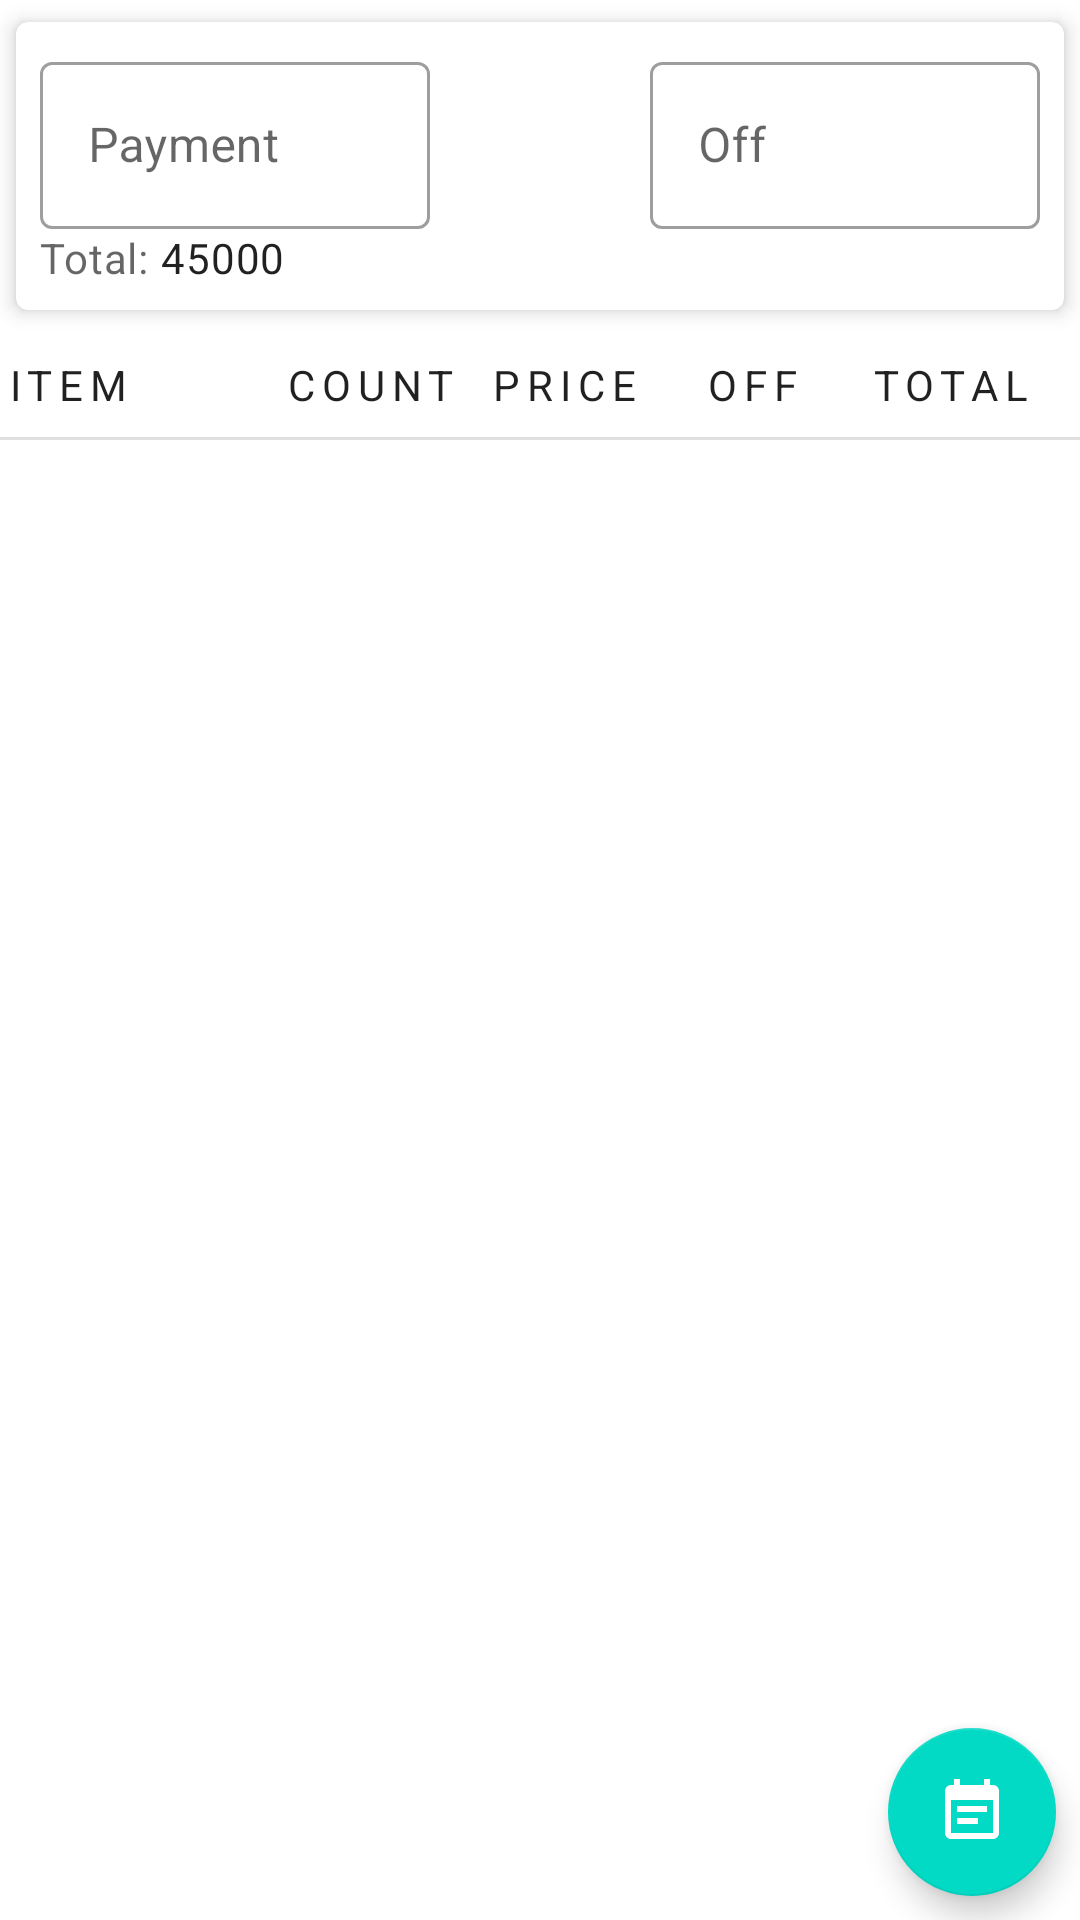

Icon click points for this 1080px x 1920px phone screenshot, format (x,y):
Add new item: (972,1812)
